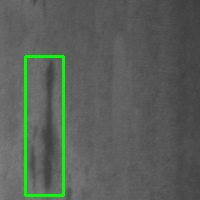inclusion: (25, 56, 63, 195)
